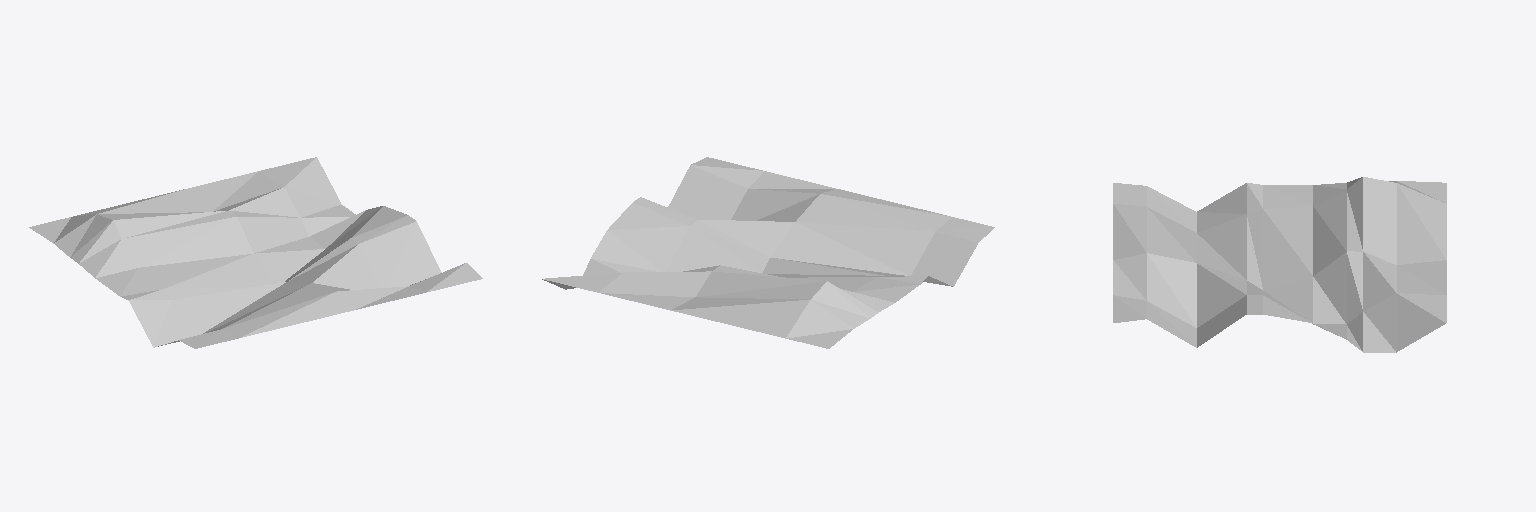
The model's file is ter6.obj.
The picture shows the model from 3 angles: view 1: azimuth 30°, elevation 25°; view 2: azimuth 150°, elevation 25°; view 3: azimuth 270°, elevation 25°; orthographic projection.
Visible parts, largest first — view 1: ter6; view 2: ter6; view 3: ter6.
Part boxes in pixels (left/top/right/bottom): ter6: left=29, top=157, right=482, bottom=348; ter6: left=542, top=157, right=994, bottom=348; ter6: left=1113, top=177, right=1446, bottom=352.
Size of the model in its own units: 500 by 99.77 by 500.